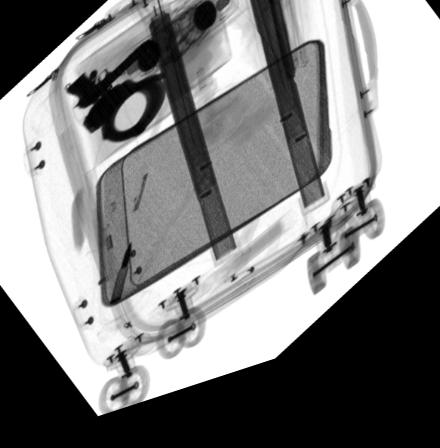Bullet: (108, 248, 131, 313)
Gun: (64, 47, 151, 114)
HandCuffs: (80, 81, 165, 153)
